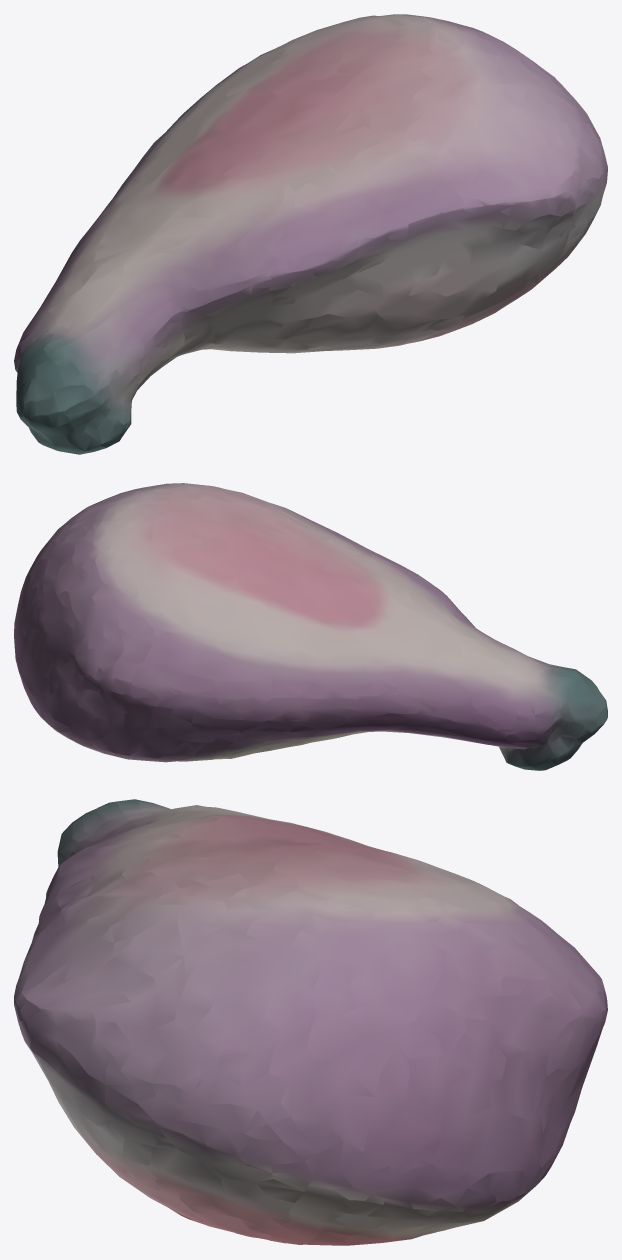
Rendered from 0008_mask_009_plush_fruit_toy.glb.
3 renders of one model, top to bottom at view 1: azimuth 30°, elevation 25°; view 2: azimuth 150°, elevation 25°; view 3: azimuth 270°, elevation 25°, orthographic. The views are drawn at different scales.
Visible parts, largest first — view 1: mask_009_object; view 2: mask_009_object; view 3: mask_009_object.
Boxes of the visible parts, x1=… form: mask_009_object: x1=14, y1=14, x2=607, y2=454; mask_009_object: x1=14, y1=483, x2=607, y2=770; mask_009_object: x1=14, y1=799, x2=607, y2=1245.
Bounding box in the file's own units: 0.2272 × 0.0918 × 0.1436.
